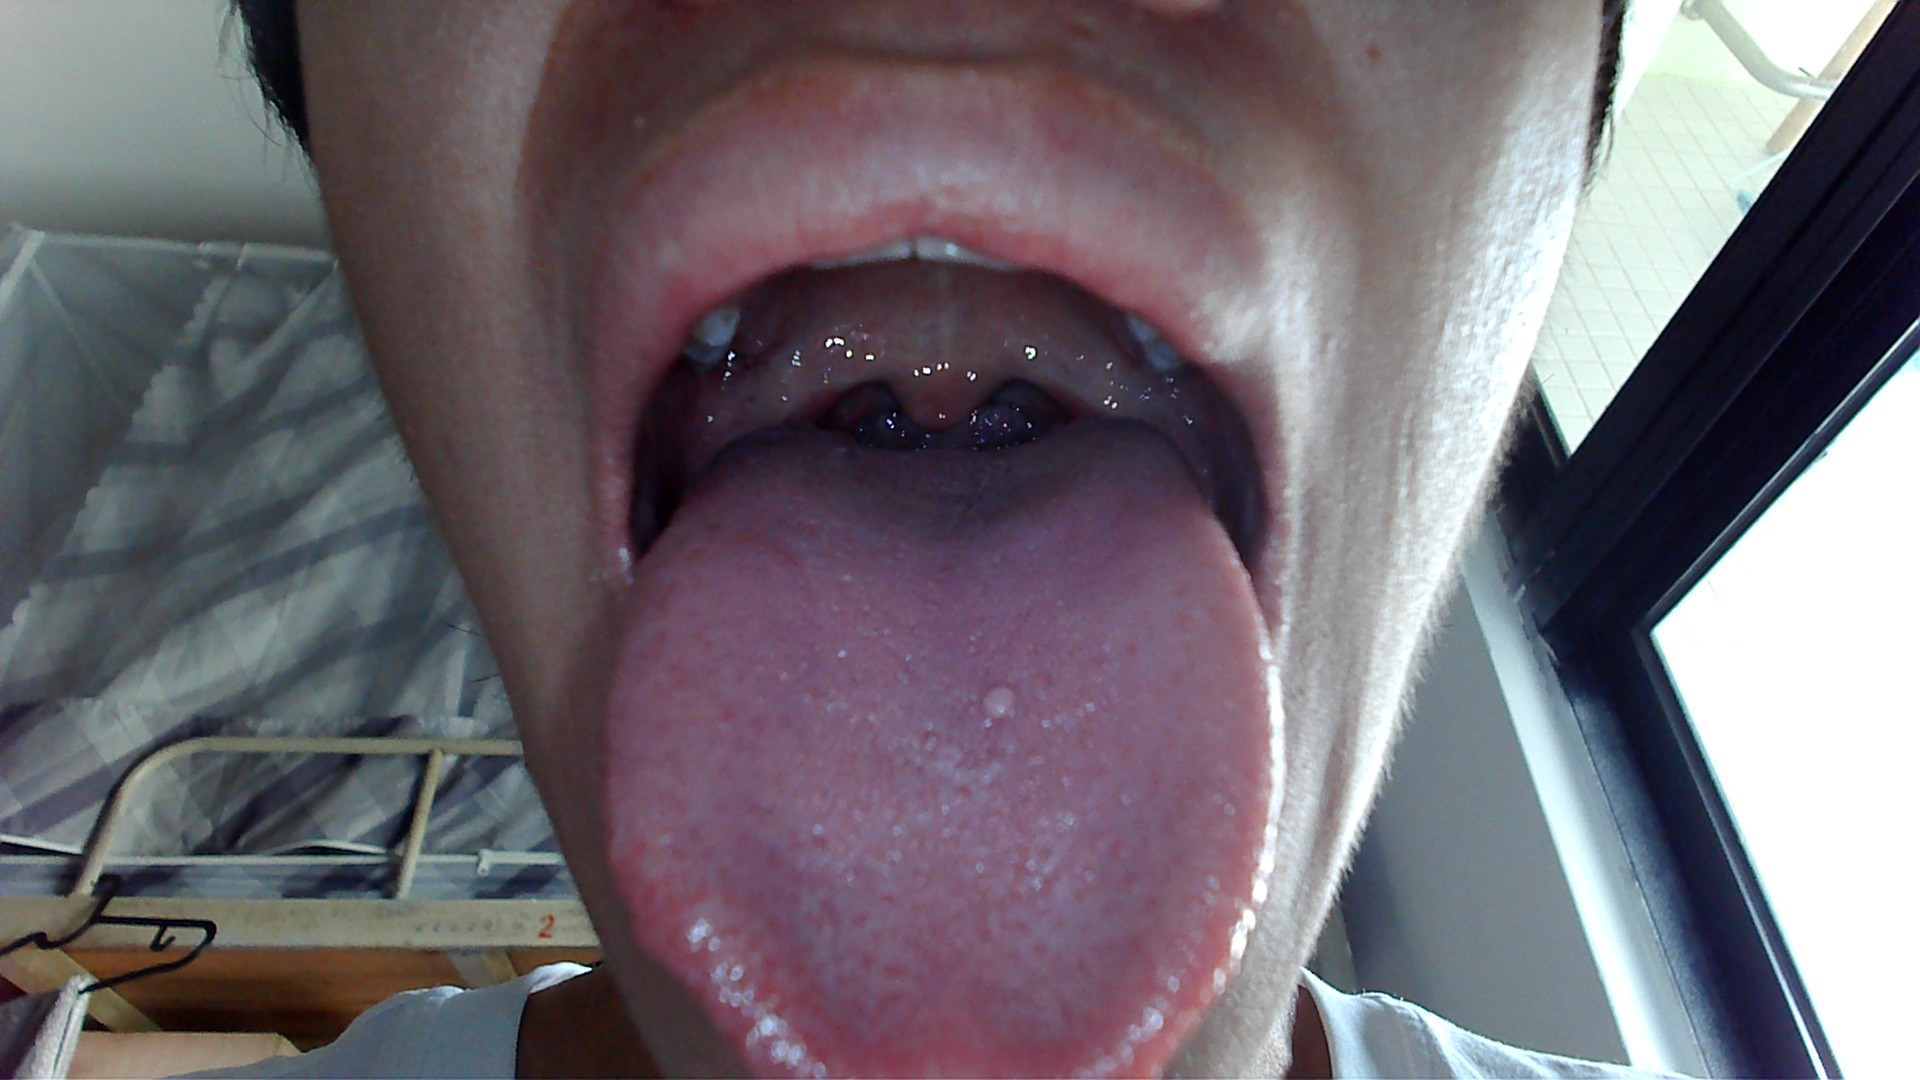throat: (1014, 336, 1110, 425), (774, 348, 866, 425)
